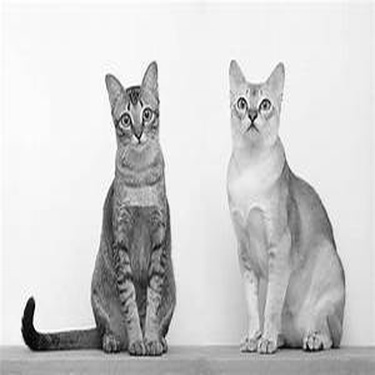cat: (22, 59, 176, 356), (226, 55, 350, 355)
